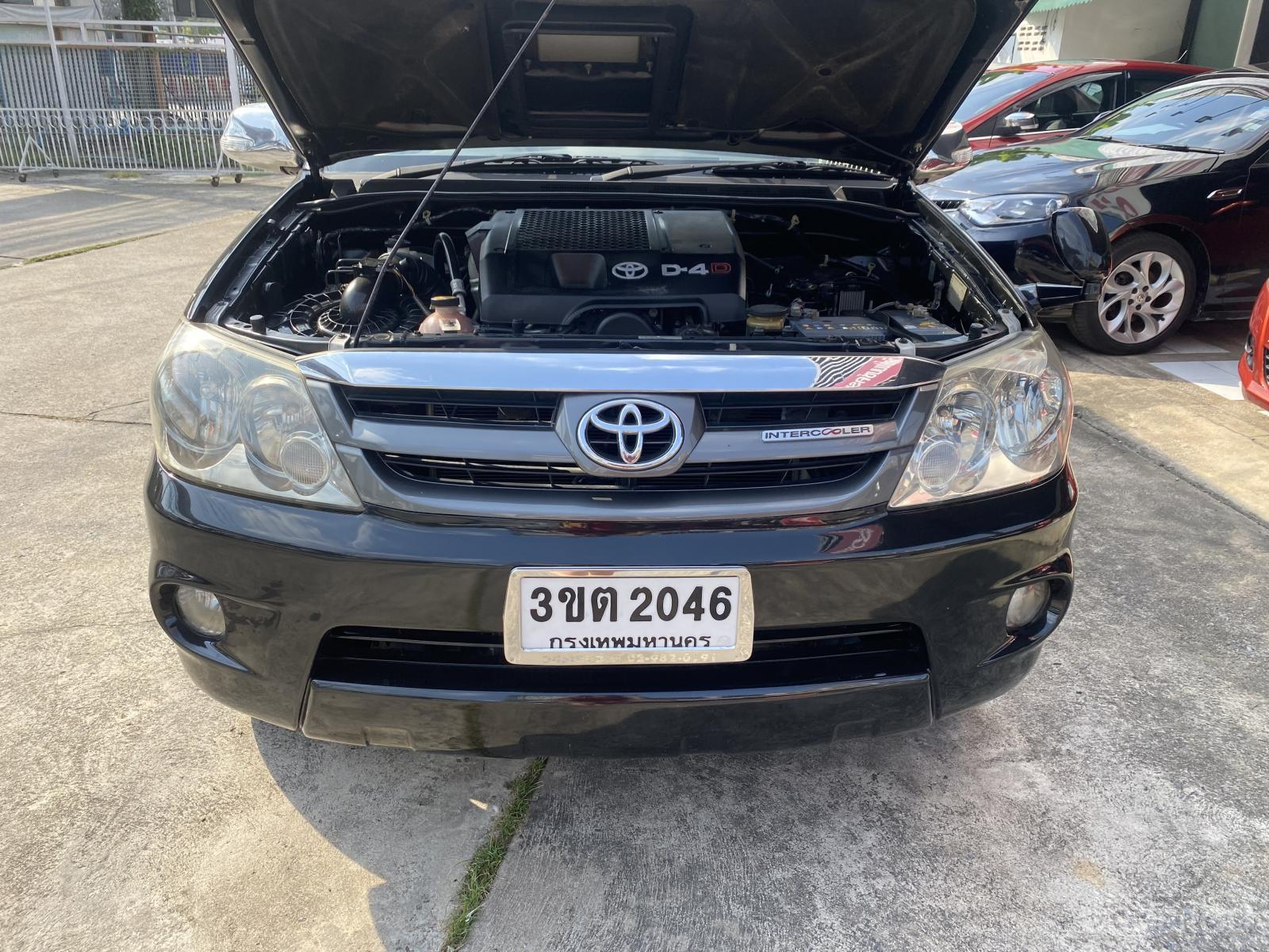license-plate: (503, 567, 755, 672)
